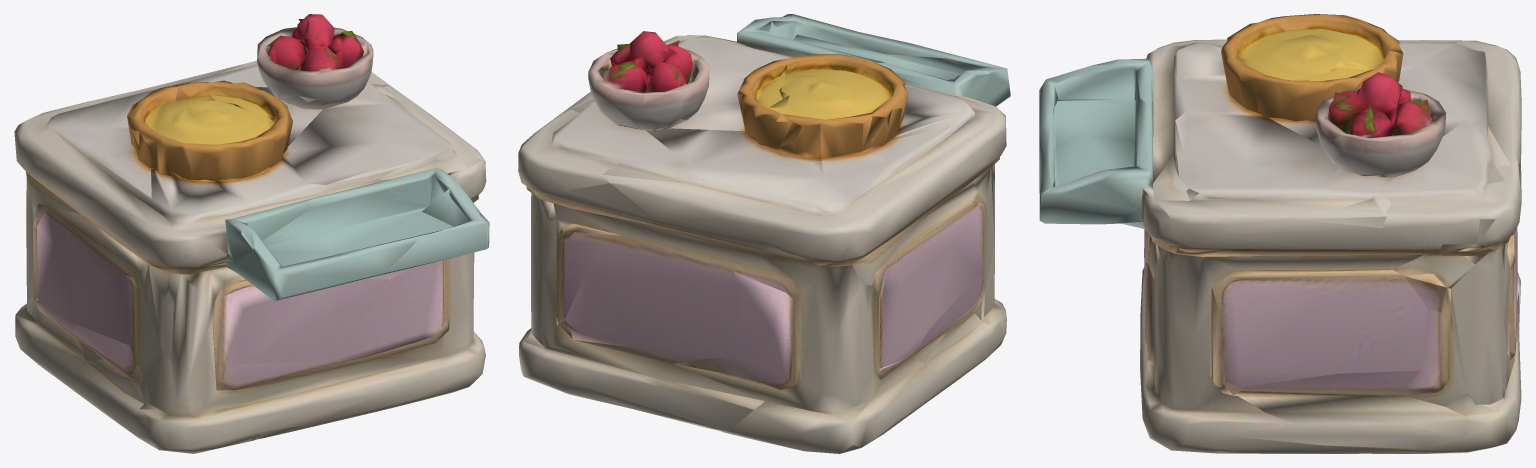
The model's file is FR_사물_s5_dessert_stand_strawberry_tart.glb.
The picture shows the model from 3 angles, left to right: view 1: azimuth 30°, elevation 25°; view 2: azimuth 150°, elevation 25°; view 3: azimuth 270°, elevation 25°; orthographic projection. The views are drawn at different scales.
Visible parts, largest first — view 1: tripo_node_a78a8fe4-0ebb-41c0-a570-edf8217114b7; view 2: tripo_node_a78a8fe4-0ebb-41c0-a570-edf8217114b7; view 3: tripo_node_a78a8fe4-0ebb-41c0-a570-edf8217114b7.
Part boxes in pixels (x1,y1,x2,y2): tripo_node_a78a8fe4-0ebb-41c0-a570-edf8217114b7: [14, 14, 489, 453]; tripo_node_a78a8fe4-0ebb-41c0-a570-edf8217114b7: [518, 14, 1010, 453]; tripo_node_a78a8fe4-0ebb-41c0-a570-edf8217114b7: [1039, 14, 1521, 453].
Bounding box in the file's own units: 1.42 × 1.24 × 1.6.
Materials: 1 (1 with a texture image).
